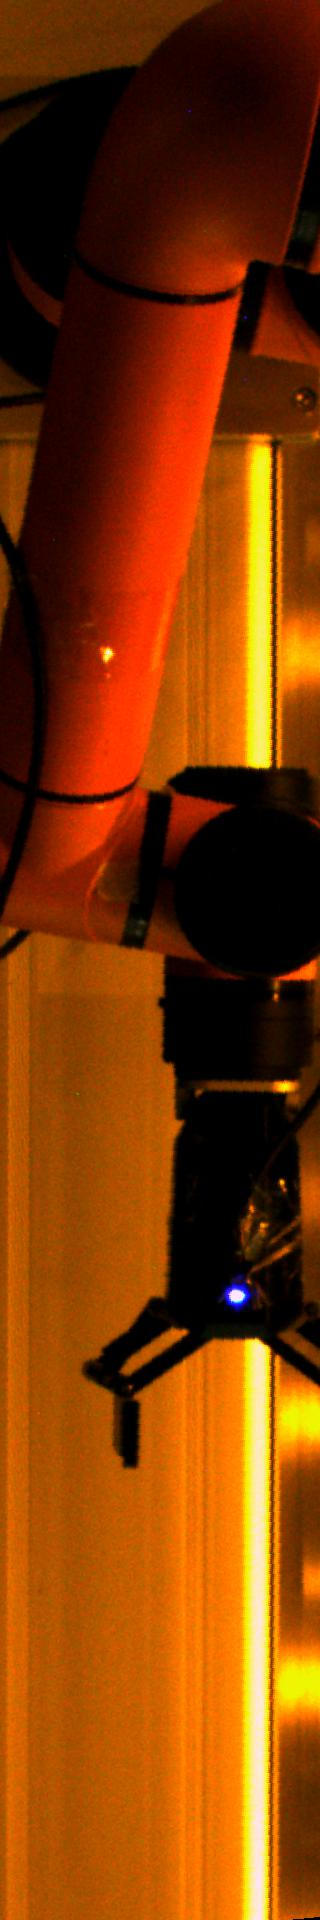keyPoint_1: (221, 1278, 251, 1308)
